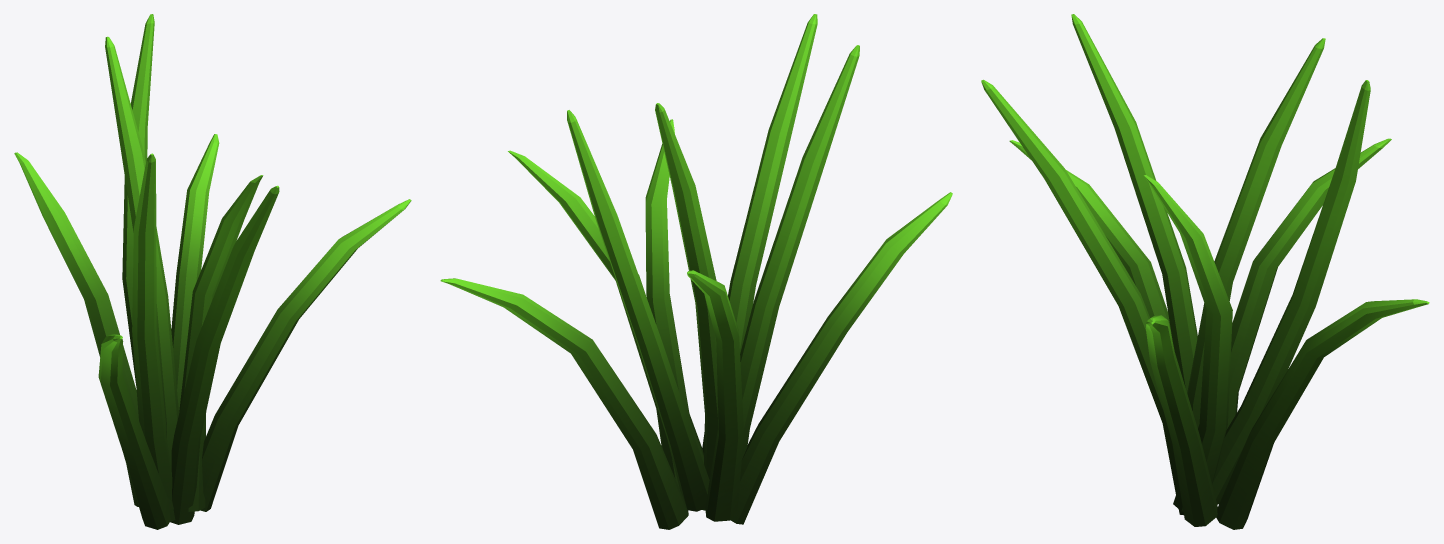
Rendered from Herbe_2.fbx.
3 views of the same model, side by side, from view 1: azimuth 30°, elevation 25°; view 2: azimuth 150°, elevation 25°; view 3: azimuth 270°, elevation 25° (orthographic). The views are drawn at different scales.
Visible parts, largest first — view 1: polySurface33; view 2: polySurface33; view 3: polySurface33.
Part boxes in pixels (x1=…): polySurface33: x1=14, y1=14, x2=411, y2=529; polySurface33: x1=440, y1=14, x2=952, y2=529; polySurface33: x1=981, y1=14, x2=1429, y2=529.
Bounding box in the file's own units: 4.92 × 5.79 × 5.
